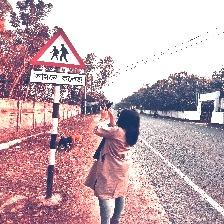College-in-front: (28, 24, 121, 111)
